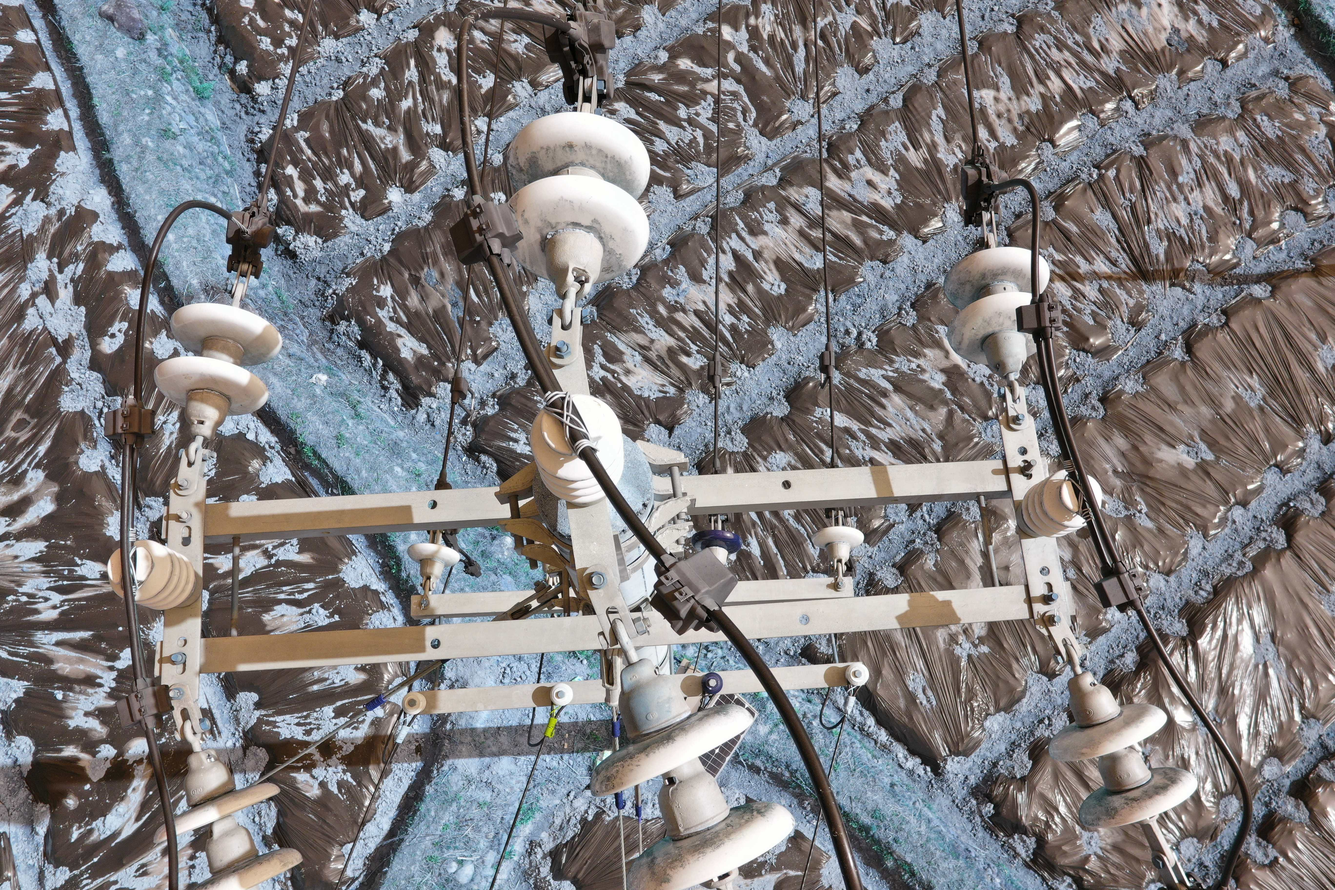severe_soiling_no_discharge_whole: (585, 653, 800, 885), (496, 110, 653, 304), (1046, 670, 1200, 829), (151, 749, 305, 888), (942, 243, 1053, 382)
